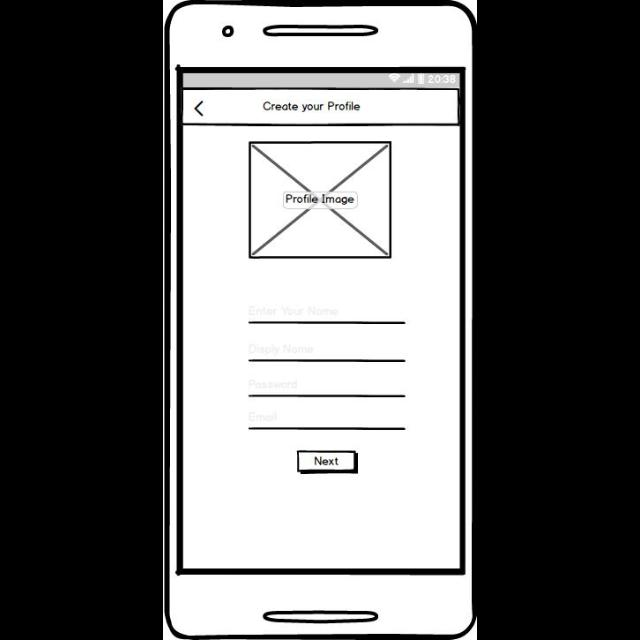icon: (196, 102, 204, 116)
image: (250, 143, 392, 260)
input: (249, 411, 407, 431), (248, 343, 406, 362), (248, 380, 406, 398), (248, 308, 406, 324)
text: (264, 101, 360, 112)
textbutton: (298, 451, 358, 474)
toolbar: (185, 92, 458, 125)
